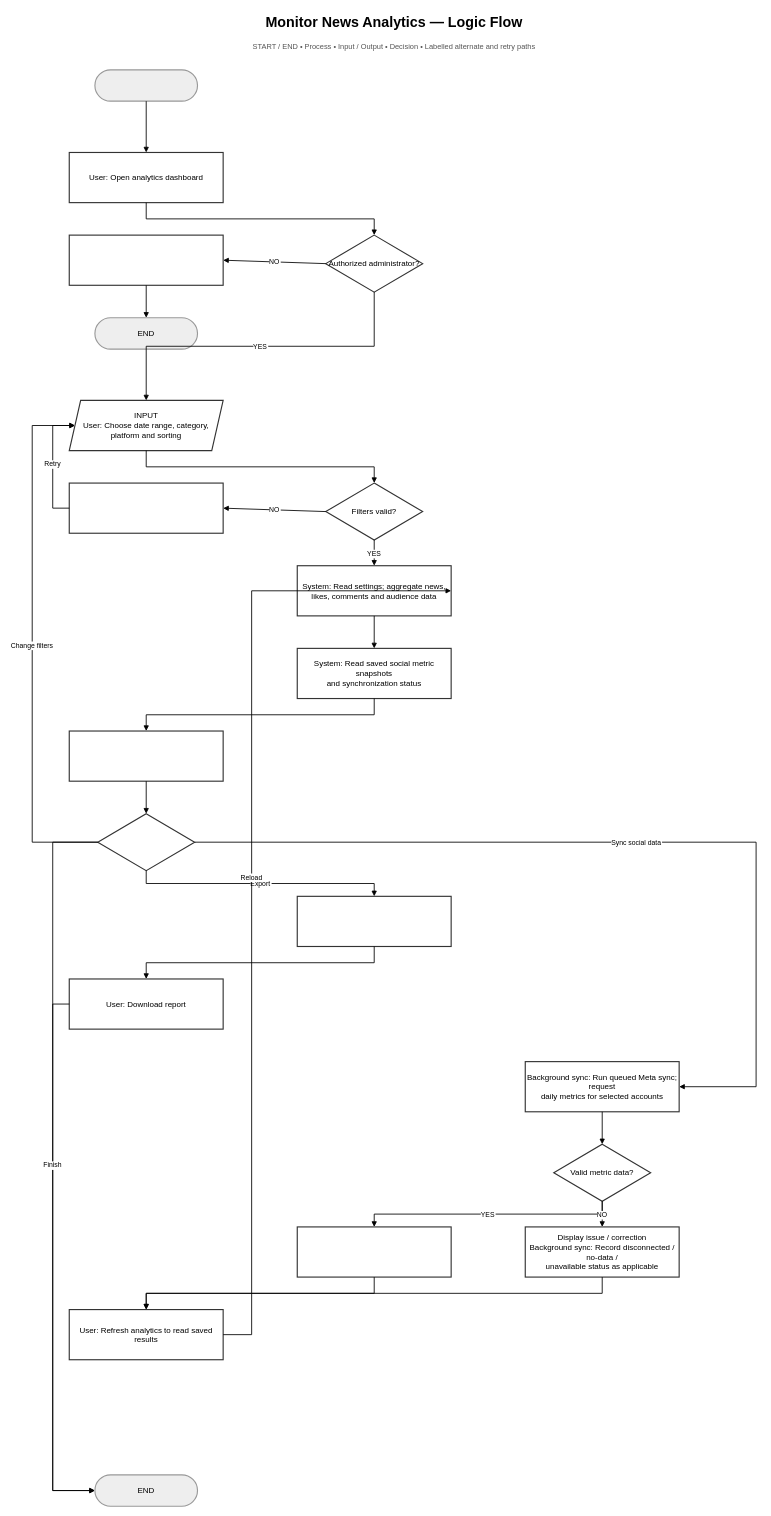
The diagram is 771 pixels wide and 1516 high, and some of its shapes have lost their labels. Here are the shapes that lost their labels. From the top down, the centre of each, then its label:
pixel 146 85: START
pixel 145 260: Display issue / correction User: Access denied
pixel 145 508: Display issue / correction User: Correct filters / date range
pixel 145 755: User: Inspect charts, trends and post details
pixel 146 842: Next action?
pixel 373 921: System: Prepare filtered CSV / XLSX report
pixel 373 1251: System: Upsert snapshots; set ready and last-sync timestamp
